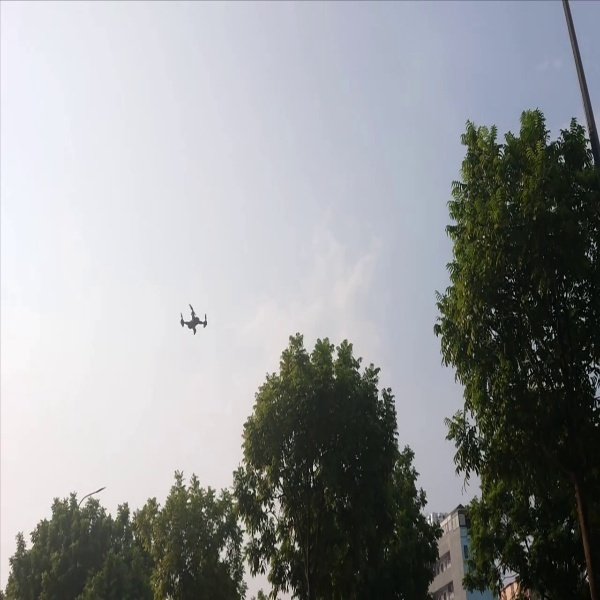drone: (165, 294, 224, 342)
